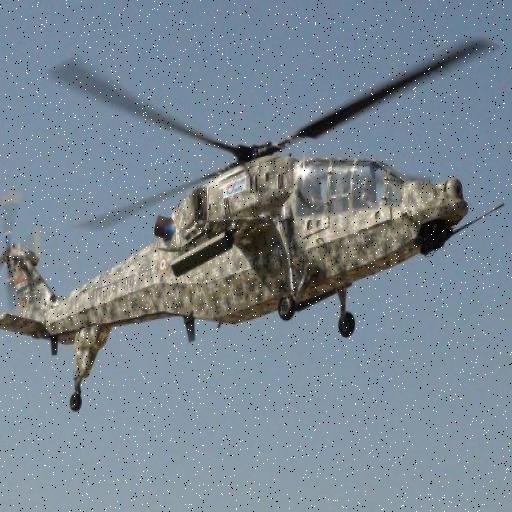helicopter: (1, 28, 512, 418)
